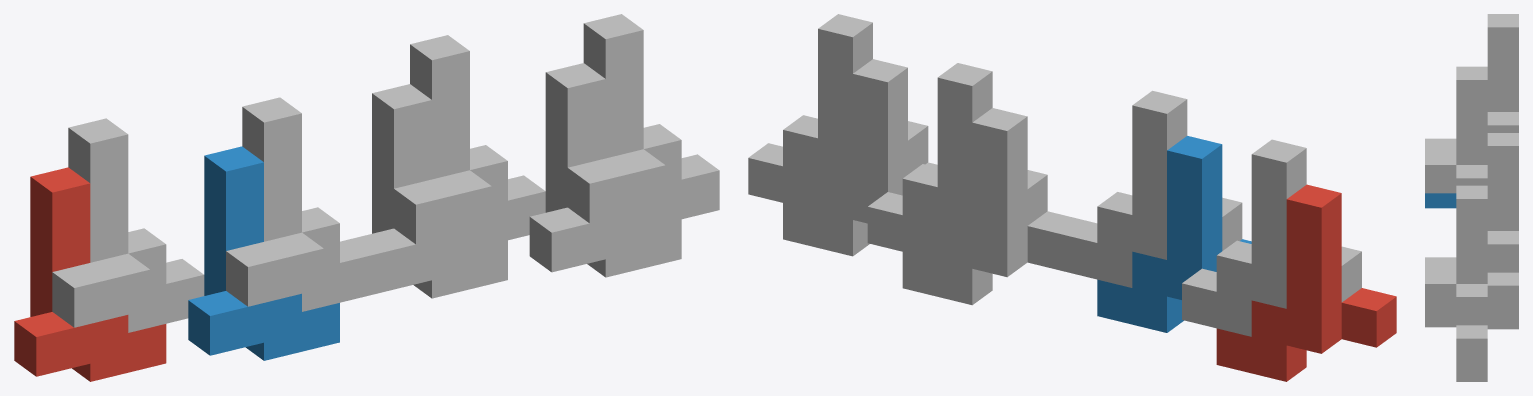
Rendered from tiling.obj.
3 views of the same model, side by side, from view 1: azimuth 30°, elevation 25°; view 2: azimuth 150°, elevation 25°; view 3: azimuth 270°, elevation 25° (orthographic). The views are drawn at different scales.
Parts seen in each view (by area): view 1: copy_1_domain_8, copy_1_domain_4, copy_1_domain_3, copy_1_domain_7, copy_1_domain_1, copy_1_domain_6, copy_1_domain_2, copy_1_domain_5; view 2: copy_1_domain_1, copy_1_domain_5, copy_1_domain_7, copy_1_domain_3, copy_1_domain_4, copy_1_domain_8, copy_1_domain_2, copy_1_domain_6; view 3: copy_1_domain_8, copy_1_domain_7, copy_1_domain_4, copy_1_domain_3, copy_1_domain_6, copy_1_domain_2, copy_1_domain_5.
Boxes of the visible parts, x1,y1,x2,y2 form: copy_1_domain_8: (567,14,719,228); copy_1_domain_4: (226,97,377,311); copy_1_domain_3: (52,118,204,332); copy_1_domain_7: (394,35,545,249); copy_1_domain_1: (14,167,166,381); copy_1_domain_6: (529,63,681,277); copy_1_domain_2: (188,146,339,360); copy_1_domain_5: (356,84,507,298); copy_1_domain_1: (1216,184,1396,381); copy_1_domain_5: (902,108,1082,305); copy_1_domain_7: (867,63,1047,260); copy_1_domain_3: (1182,139,1361,336); copy_1_domain_4: (1062,90,1242,287); copy_1_domain_8: (748,14,928,211); copy_1_domain_2: (1097,136,1251,332); copy_1_domain_6: (783,59,937,256); copy_1_domain_8: (1425,185,1487,366); copy_1_domain_7: (1487,133,1518,313); copy_1_domain_4: (1425,66,1487,193); copy_1_domain_3: (1487,14,1518,132); copy_1_domain_6: (1425,312,1487,381); copy_1_domain_2: (1425,193,1456,208); copy_1_domain_5: (1487,314,1518,329).
Size of the model in its own units: 18 by 6 by 3.
